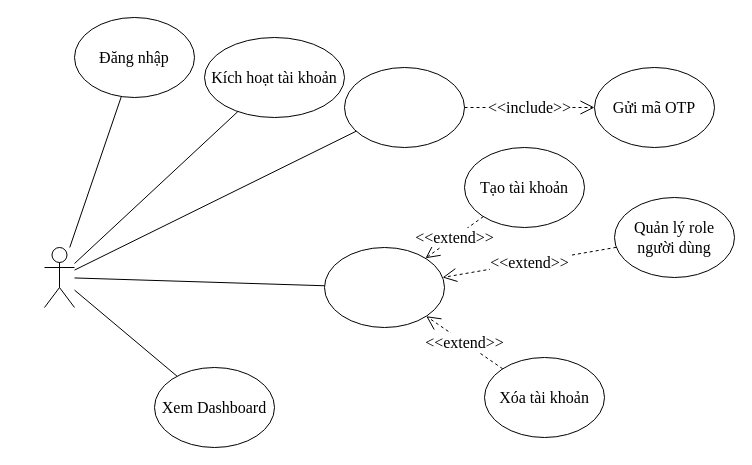
Image size: 752x465. Some labels were removed from this diagram. The shapes that lost their labels are listed below. From the top down, each one's centre as x and y in pixels, then its label:
At (404,107): "Quên mật khẩu".
At (59,277): "Quản trị viên".
At (384,287): "Quản lý tài khoản".
